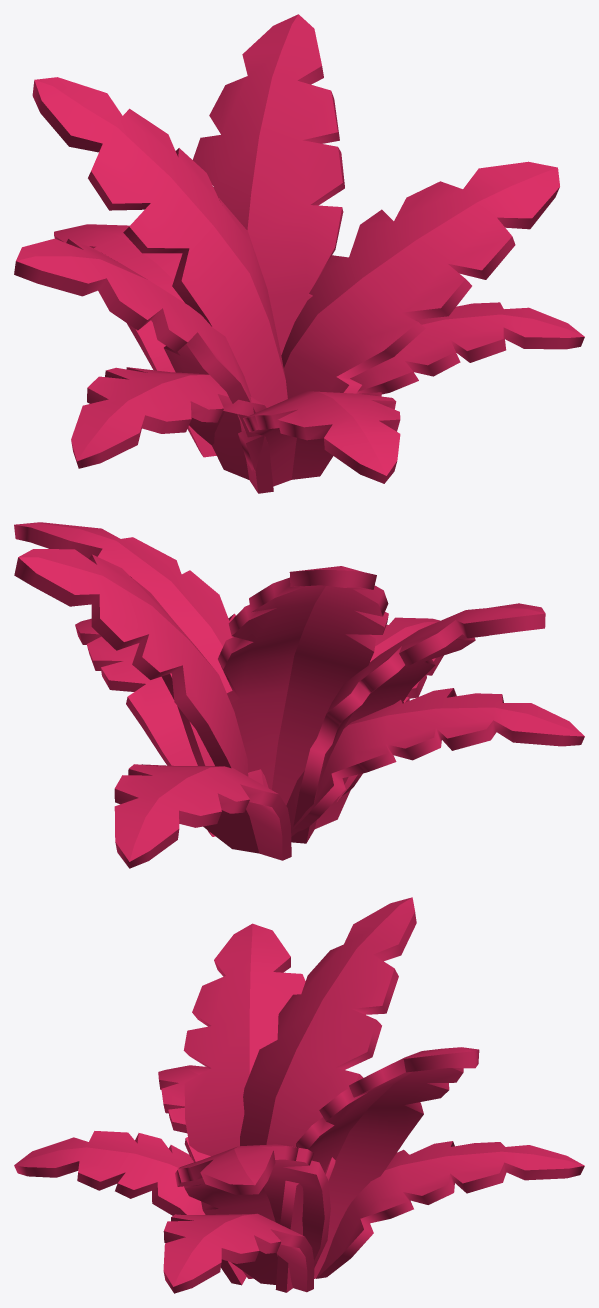
File: Forest_Fern.fbx
The picture shows the model from 3 angles, top to bottom: view 1: azimuth 30°, elevation 25°; view 2: azimuth 150°, elevation 25°; view 3: azimuth 270°, elevation 25°; orthographic projection. The views are drawn at different scales.
Parts seen in each view (by area): view 1: Forest_Fern; view 2: Forest_Fern; view 3: Forest_Fern.
Part boxes in pixels (box(x1,y1,x2,y2)): Forest_Fern: box(14, 14, 584, 493); Forest_Fern: box(14, 522, 584, 868); Forest_Fern: box(14, 897, 584, 1293).
Size of the model in its own units: 59.95 by 38.21 by 63.62.
